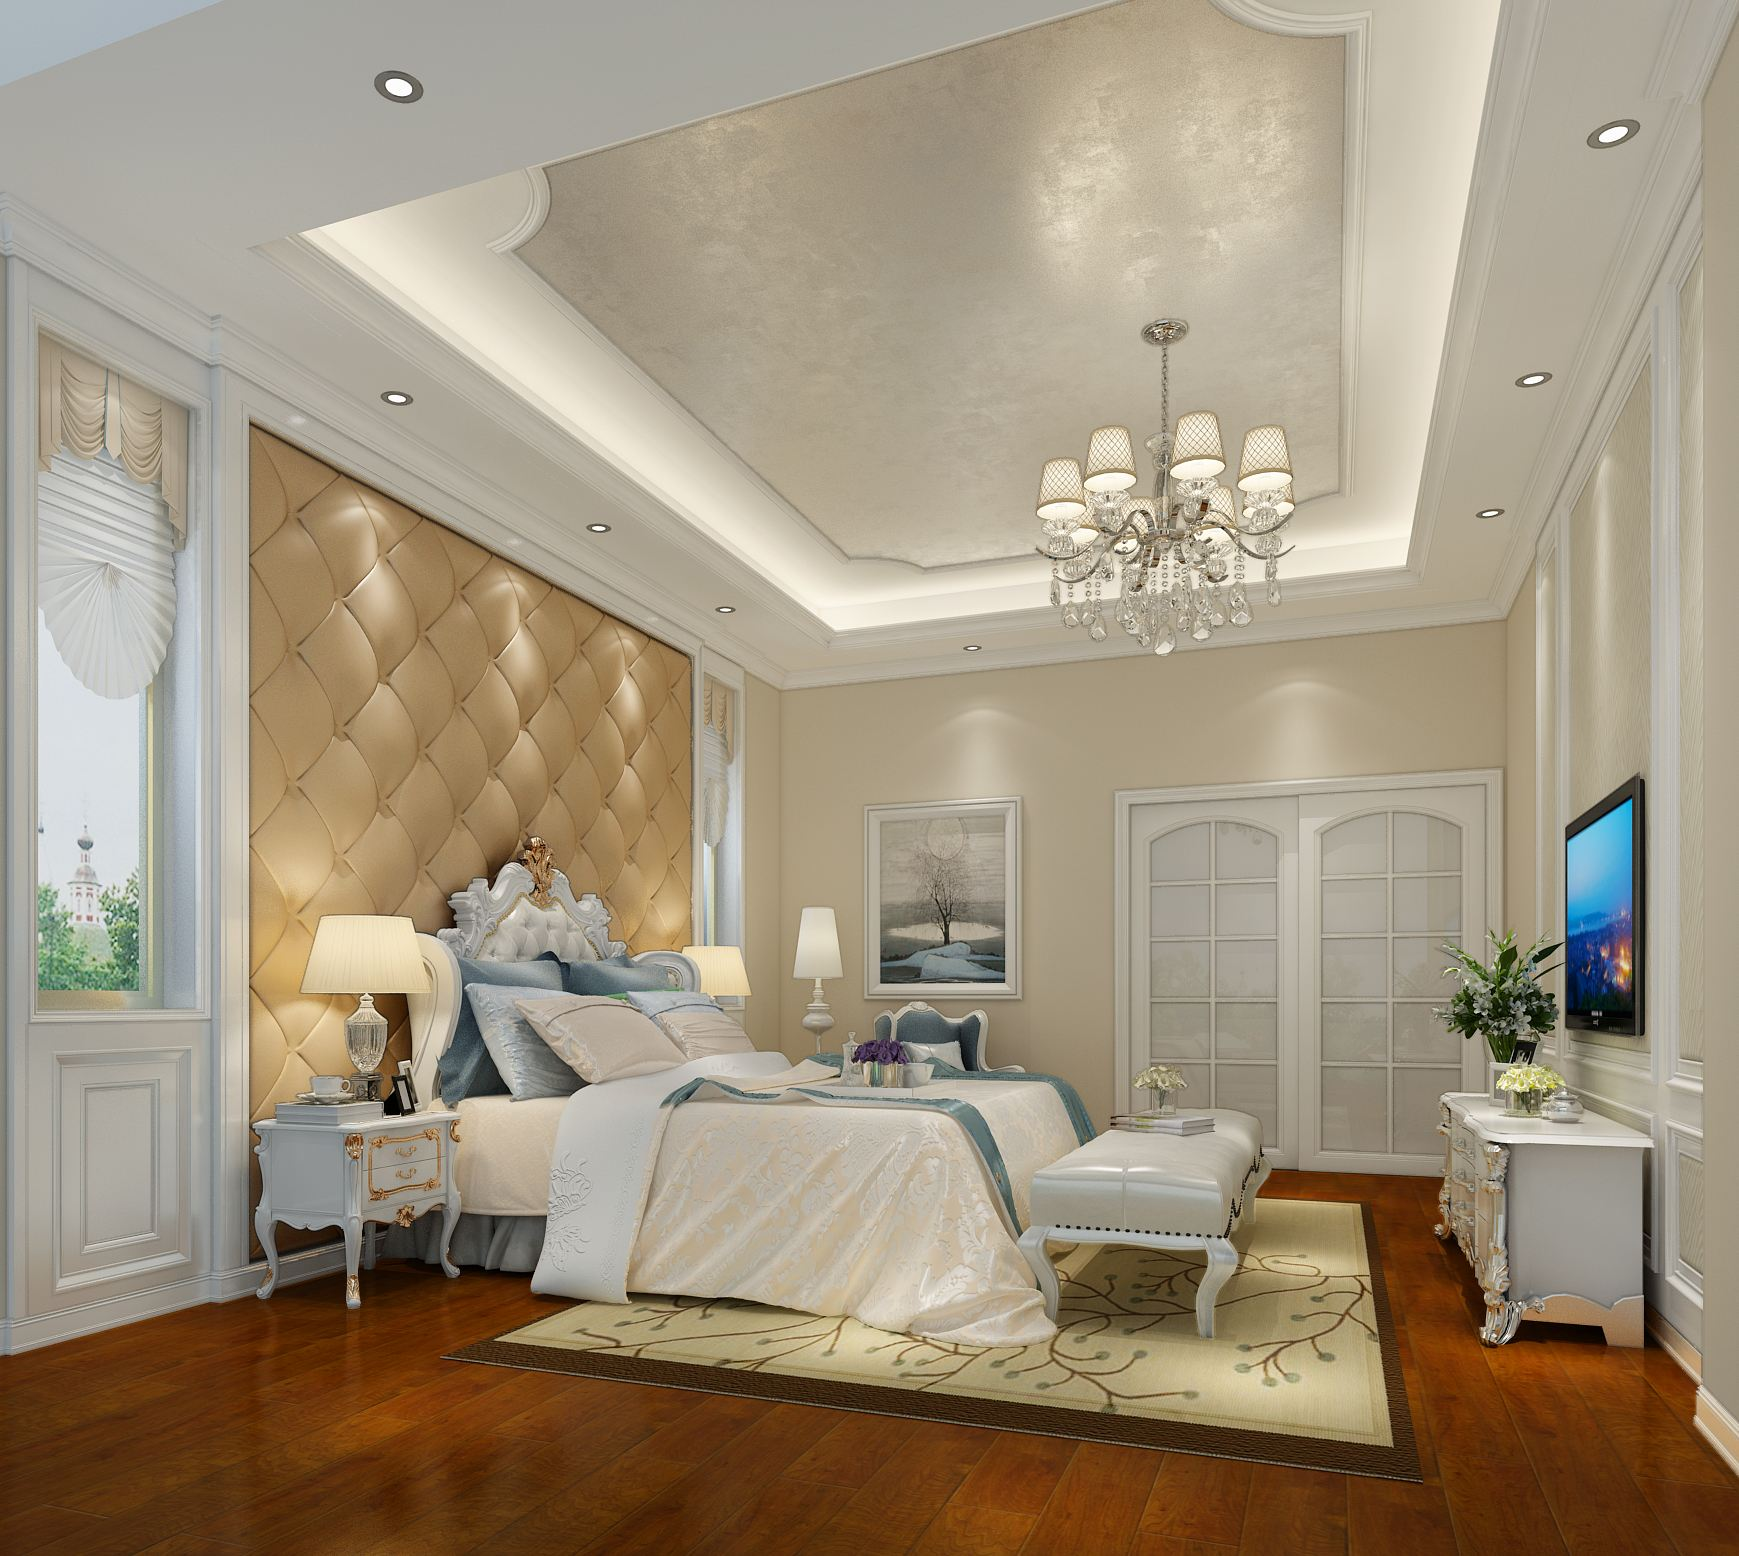床: (414, 1027, 1086, 1328)
枕头: (460, 973, 764, 1105)
灯: (1014, 324, 1310, 656), (297, 910, 423, 1108), (793, 900, 847, 1042), (1569, 108, 1653, 152), (366, 65, 423, 116), (1514, 366, 1560, 404), (372, 384, 419, 415), (574, 515, 620, 545), (707, 596, 746, 629), (1472, 505, 1511, 529), (957, 638, 988, 662)
